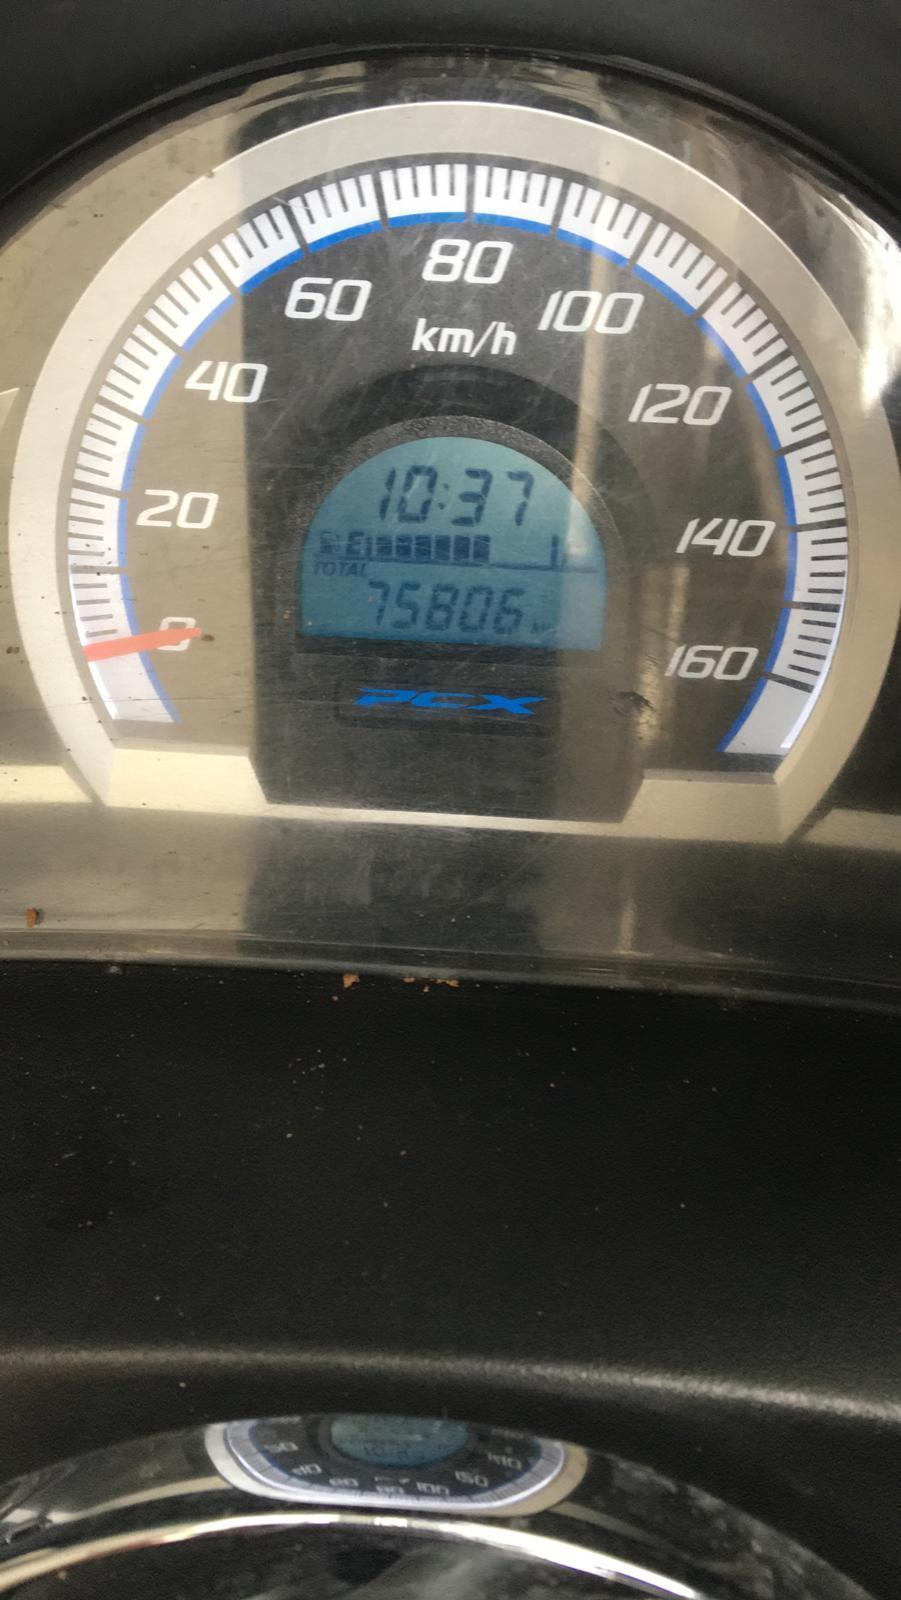0: (396, 463, 436, 525), (459, 584, 492, 633)
1: (370, 463, 394, 523)
3: (452, 464, 493, 527)
5: (391, 580, 422, 630)
6: (493, 585, 526, 636)
7: (503, 466, 535, 527), (363, 579, 389, 629)
8: (423, 582, 458, 631)
X: (342, 527, 365, 555), (437, 480, 452, 511), (561, 542, 580, 564), (322, 560, 337, 577), (309, 559, 323, 577), (347, 562, 359, 578), (541, 621, 552, 637), (336, 560, 347, 577), (527, 622, 540, 636), (359, 562, 369, 578)
odometer: (267, 410, 637, 674)
